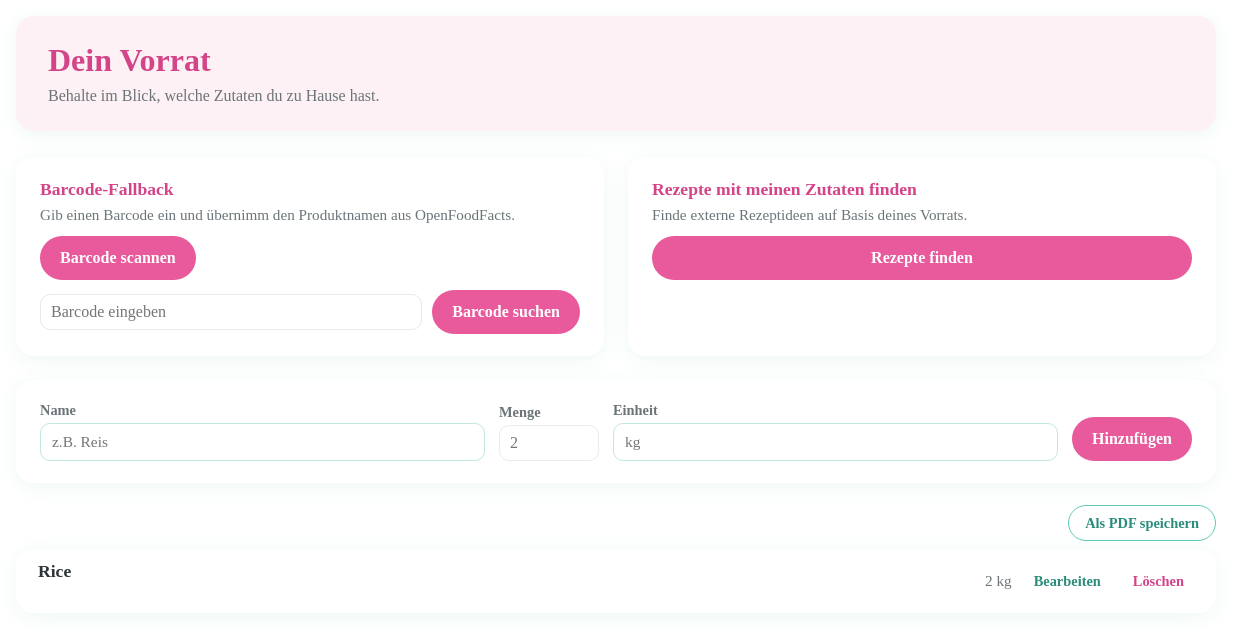
it: PantryView › shows forbidden message when delete returns 403
Click the button with class "delete-btn": (1158, 581) left=1123, top=561, right=1194, bottom=601
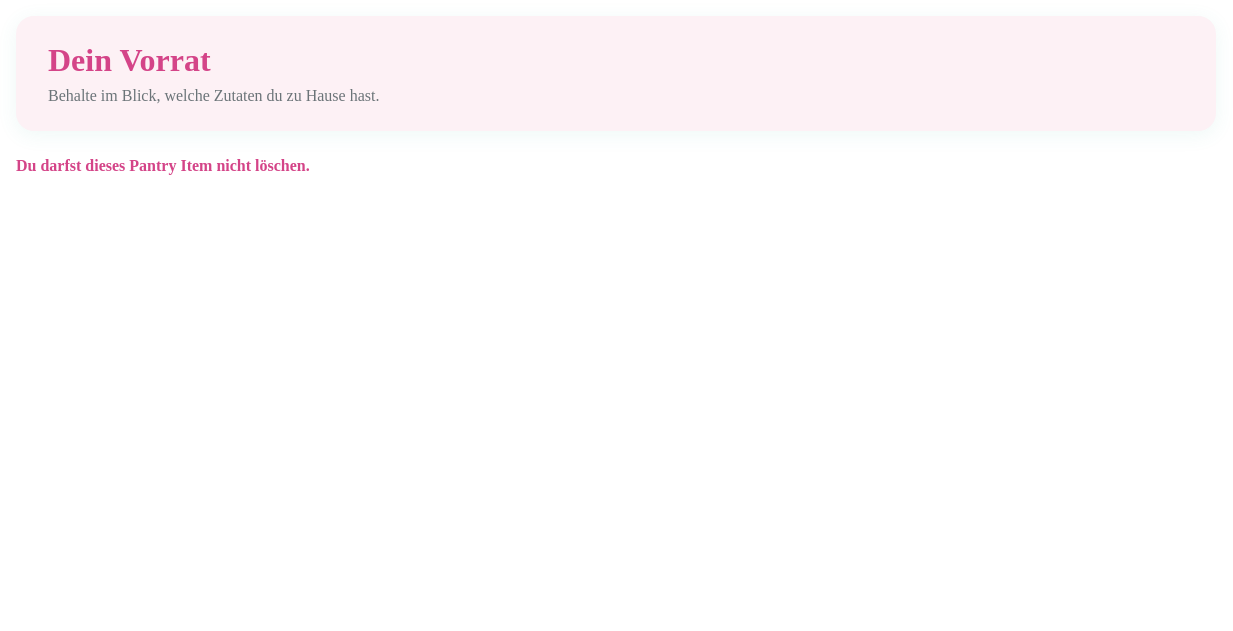
Expected: the text "Du darfst dieses Pantry Item nicht löschen." is shown, left=16, top=157, right=310, bottom=174
